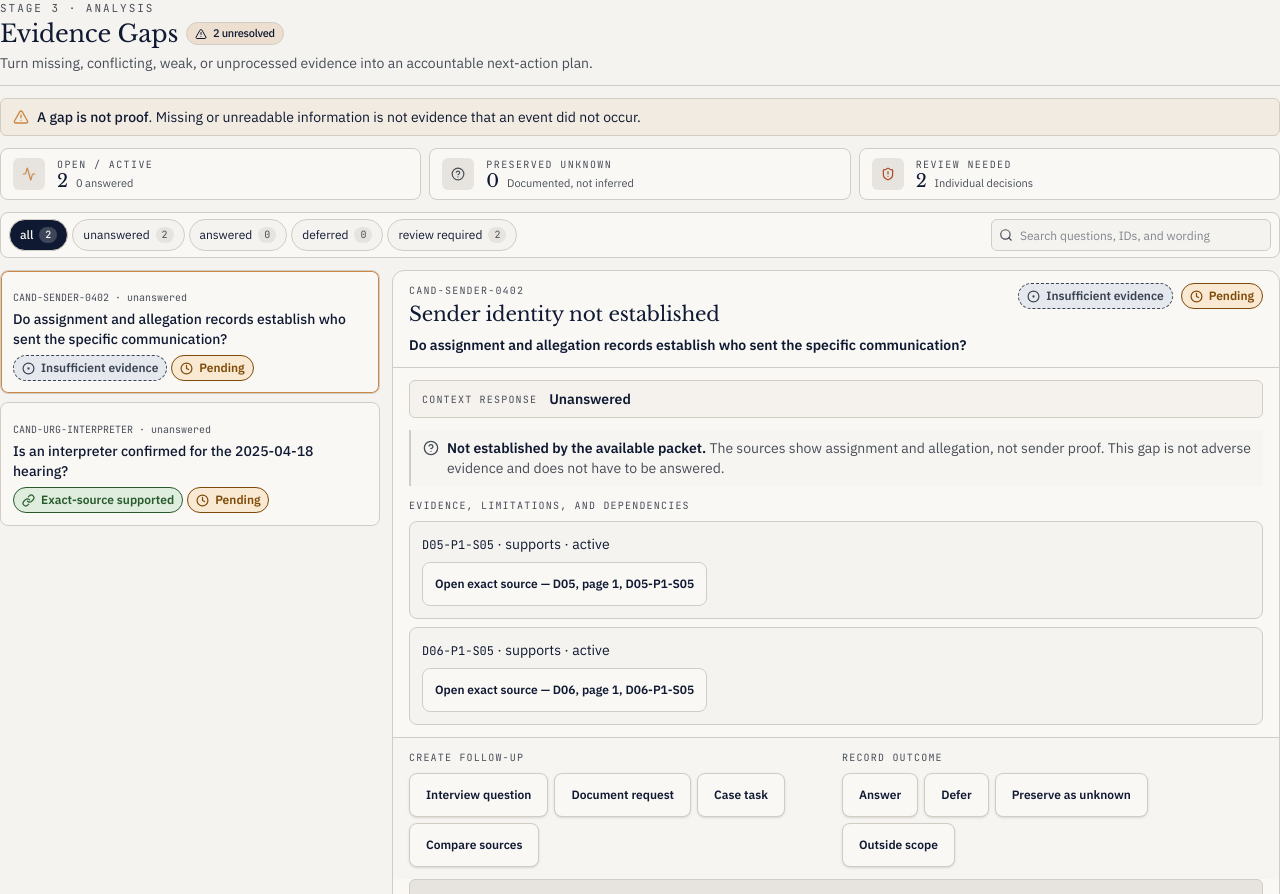
Test case: canonical review destinations › projects Evidence Gaps from the active run and preserves canonical response actions
The width and height of the screenshot is (1280, 894).
Expected: the heading "Evidence Gaps" is shown, 0,18 -> 178,48
Expected: the text "A gap is not proof" is shown, 37,108 -> 149,126
Click the button "Is an interpreter confirmed": (73, 430) 0,402 -> 380,526
(page scrolled)
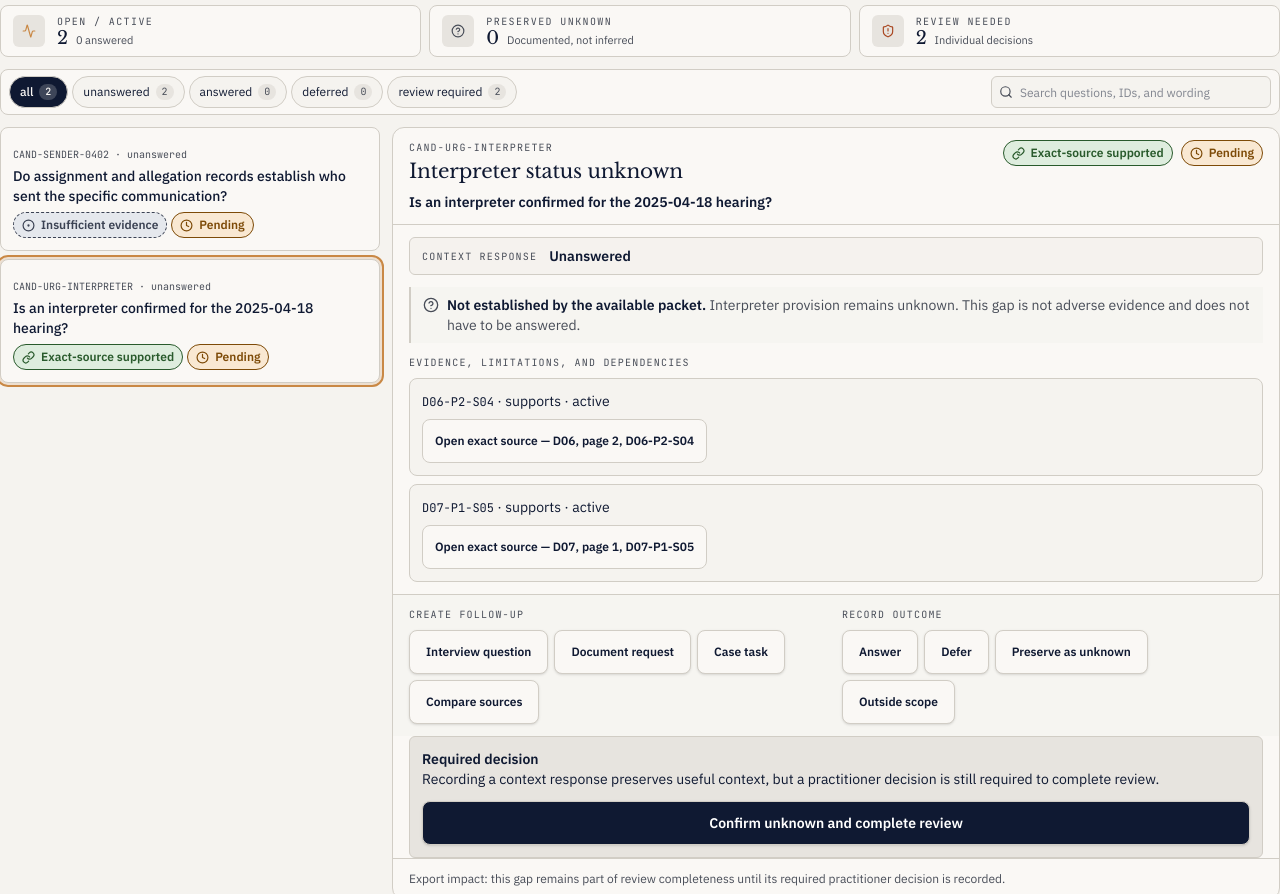
Expected: the button "Preserve as unknown" is enabled, 995,630 -> 1148,674
Now the element named "Evidence and dependencies for CAND-URG-INTERPRETER" is shown, box 393,355 -> 1279,582
